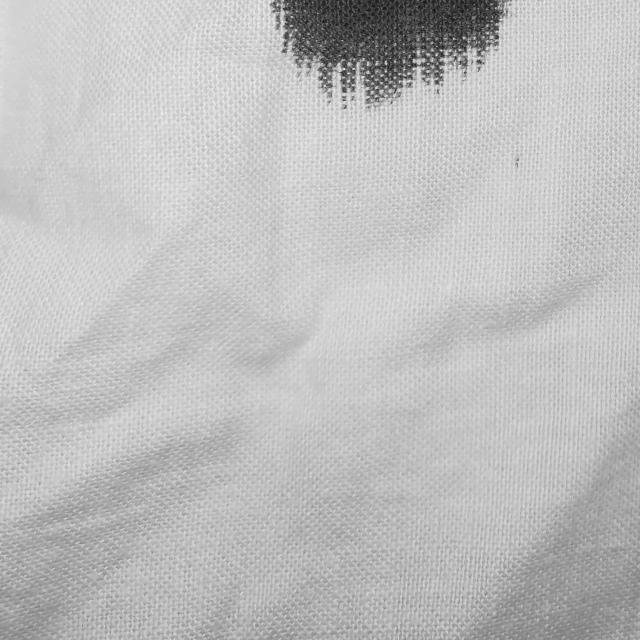Thread_other: (236, 0, 530, 178)
